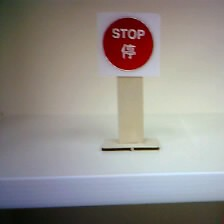stop: (95, 9, 166, 78)
